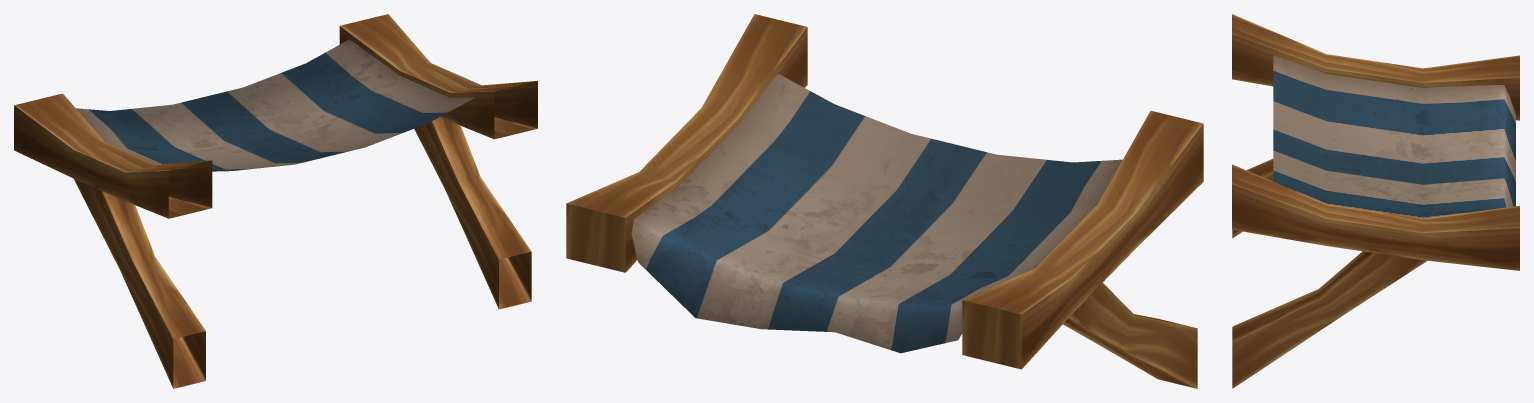
File: Awning.FBX
3 renders of one model, left to right at view 1: azimuth 30°, elevation 25°; view 2: azimuth 150°, elevation 25°; view 3: azimuth 270°, elevation 25°, orthographic. The views are drawn at different scales.
Parts seen in each view (by area): view 1: Awning; view 2: Awning; view 3: Awning.
Boxes of the visible parts, x1=… form: Awning: x1=14, y1=14, x2=537, y2=388; Awning: x1=566, y1=14, x2=1203, y2=388; Awning: x1=1232, y1=14, x2=1519, y2=388.
Size of what is drawn, in the model's own units: 273 by 192 by 153.
